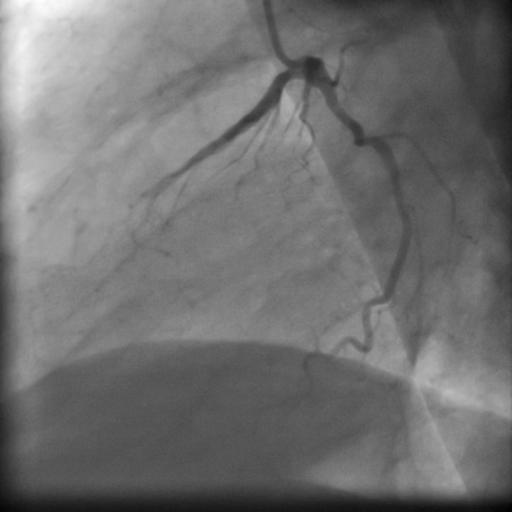Stenosis: (352, 123, 378, 153)
